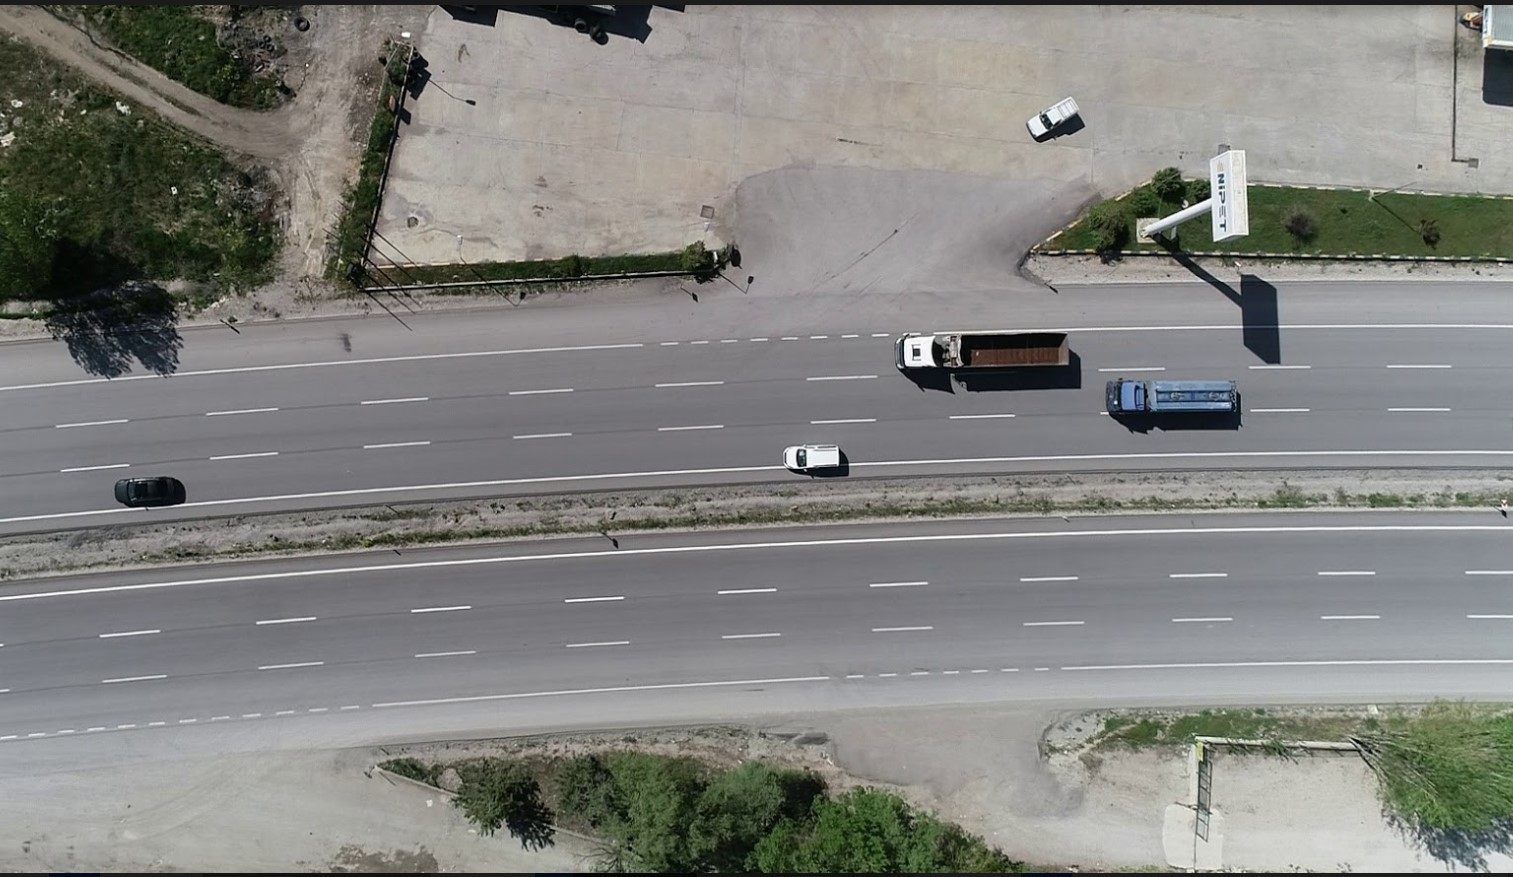araba: (1026, 96, 1079, 139), (112, 474, 178, 502), (786, 442, 844, 471)
kamyon: (895, 329, 1075, 372), (1108, 378, 1239, 419)
